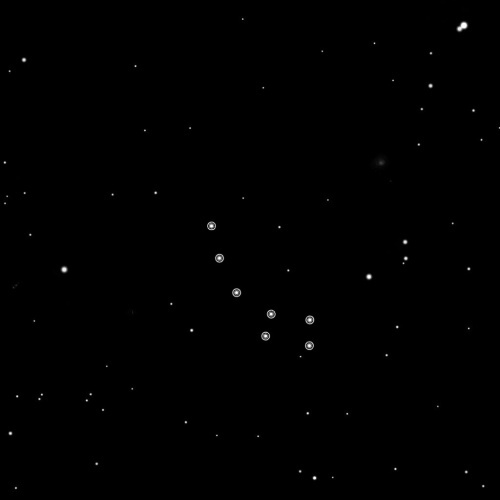ursa_minor: (202, 215, 321, 356)
